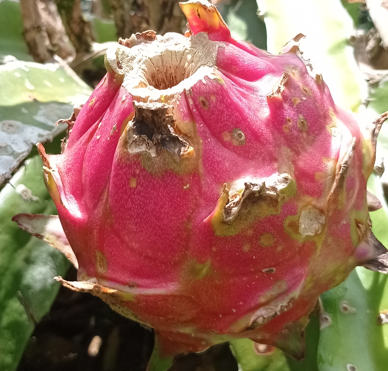Matang: (77, 28, 383, 326)
